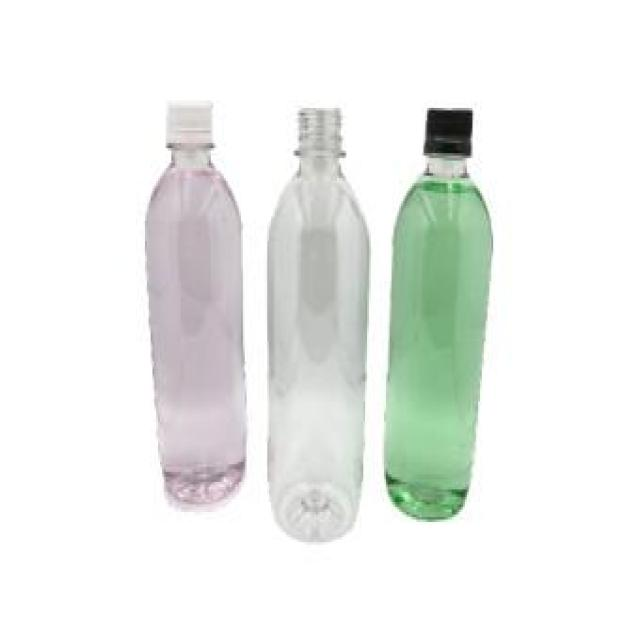bottle: (378, 108, 508, 522), (264, 108, 374, 542), (139, 103, 255, 504)
